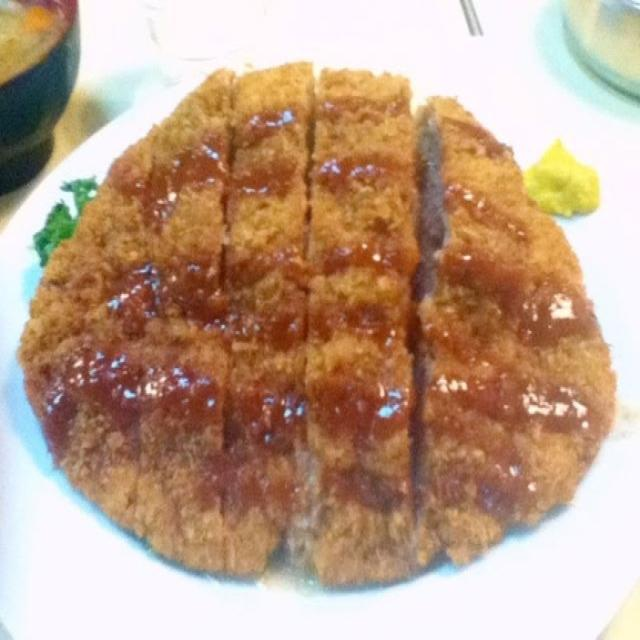炸货点心: (18, 44, 609, 610)
